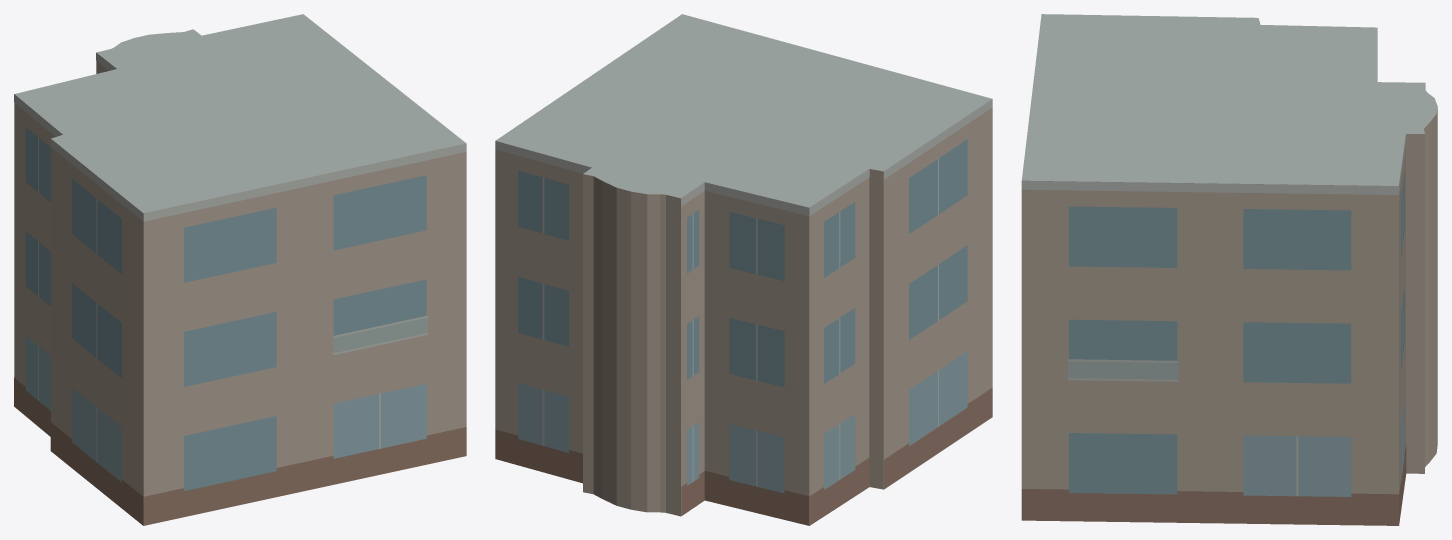
File: survey-upis-33025055.glb
The picture shows the model from 3 angles, left to right: view 1: azimuth 30°, elevation 25°; view 2: azimuth 150°, elevation 25°; view 3: azimuth 270°, elevation 25°; orthographic projection. The views are drawn at different scales.
Visible parts, largest first — view 1: survey-upis-33025055.tmp; view 2: survey-upis-33025055.tmp; view 3: survey-upis-33025055.tmp.
Boxes of the visible parts, x1,y1,x2,y2 form: survey-upis-33025055.tmp: (14, 14, 466, 525); survey-upis-33025055.tmp: (495, 14, 992, 525); survey-upis-33025055.tmp: (1021, 14, 1437, 525).
Size of the model in its own units: 9.94 by 9.15 by 10.15.
